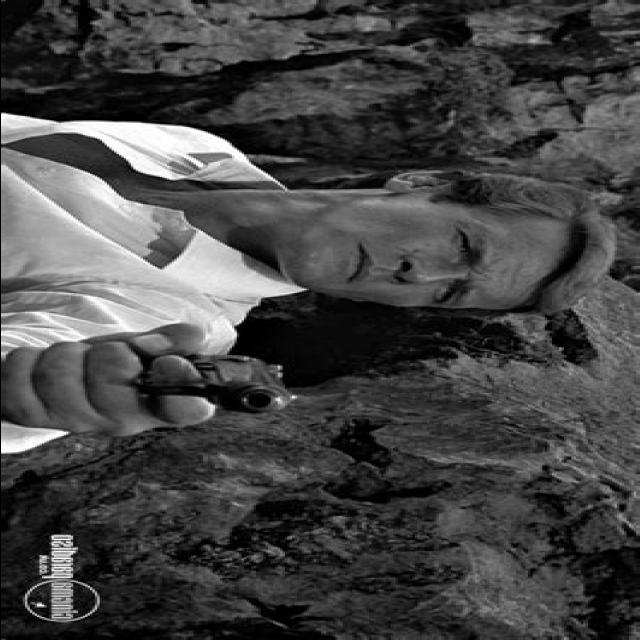weapons: (55, 319, 336, 441)
